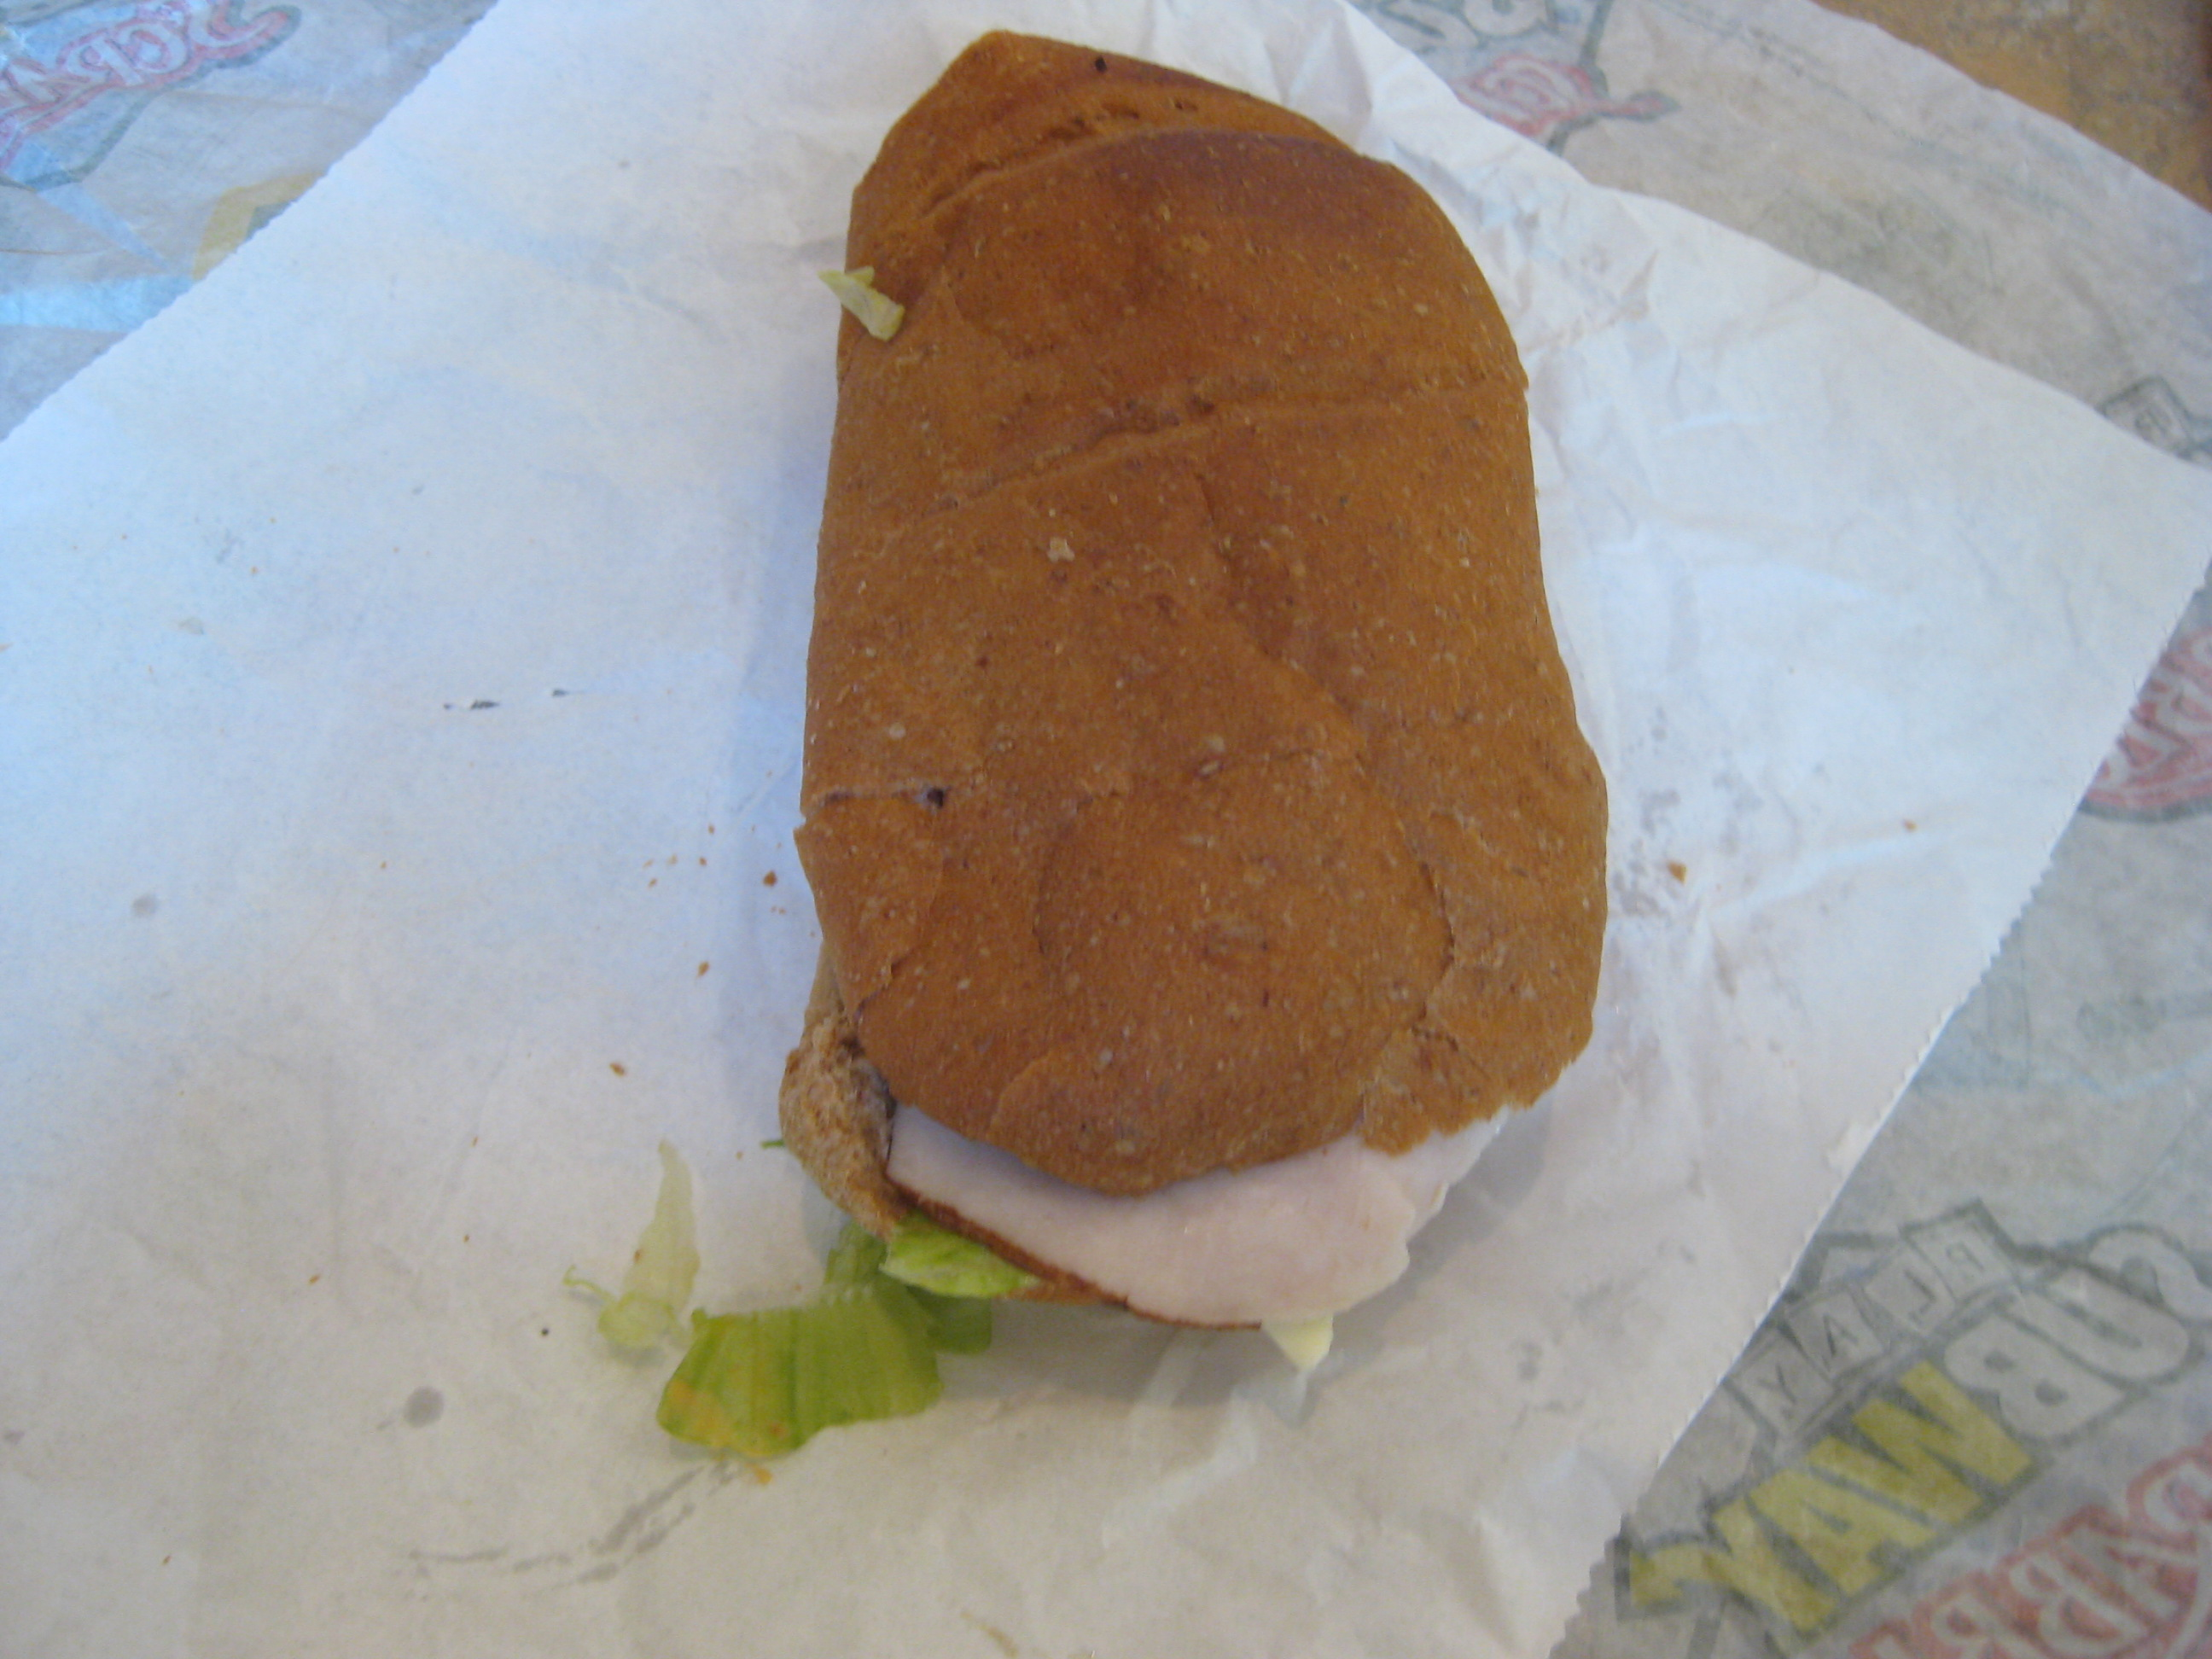sub: (814, 8, 1619, 1397)
